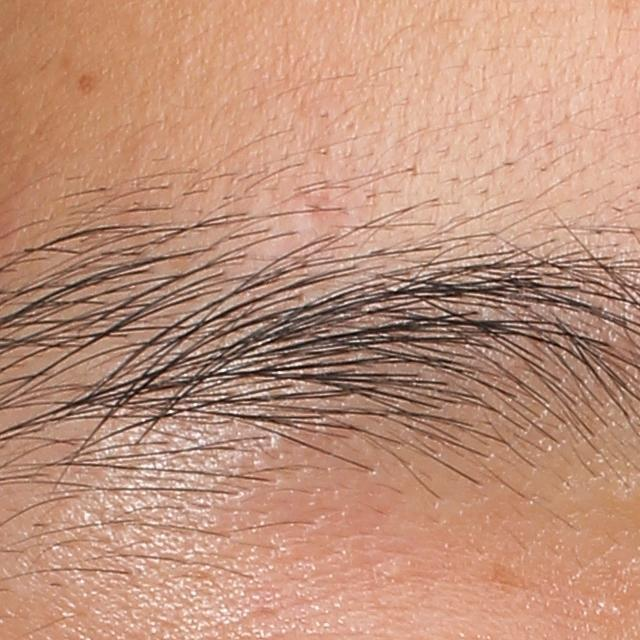nevus: (76, 71, 97, 96)
